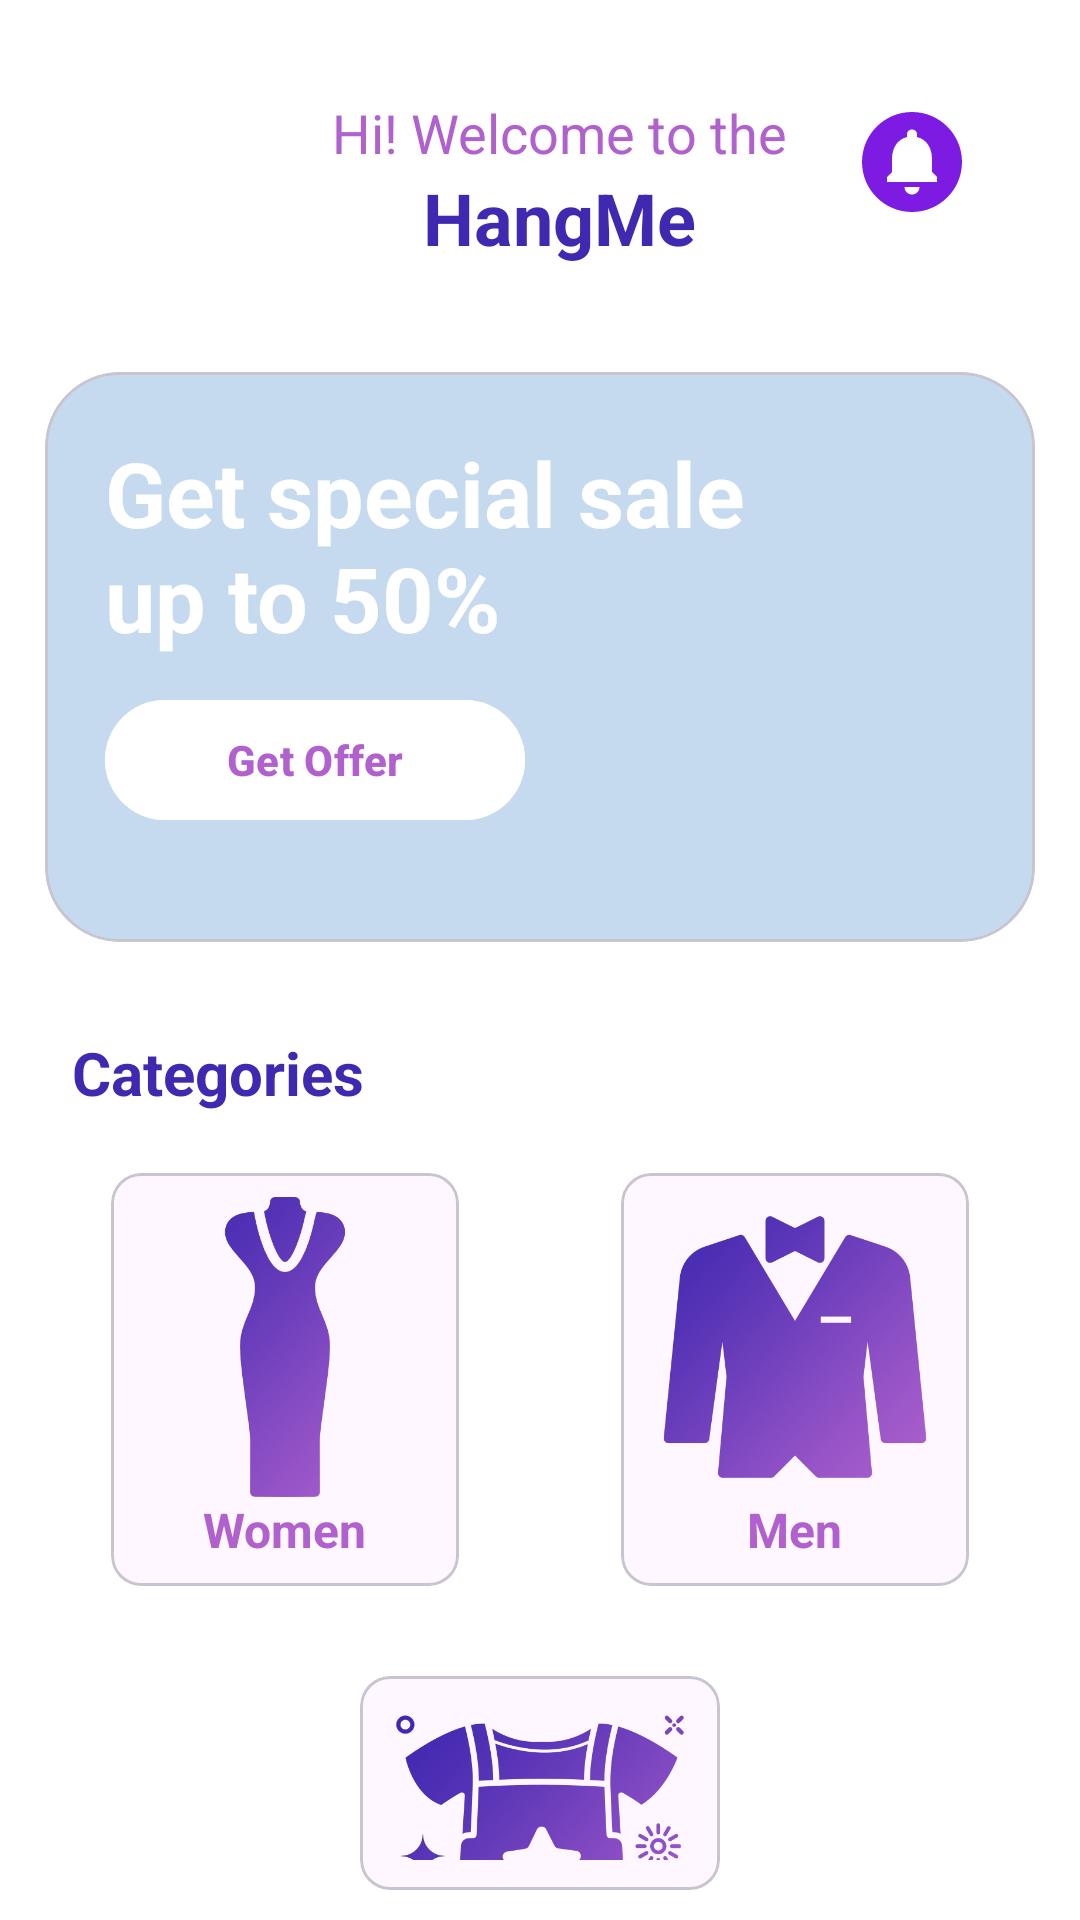

Icons on this 1080×1920 Android screen, each with its box as (x1, y1, x2, y2):
notificationicon: (862, 112, 962, 212)
